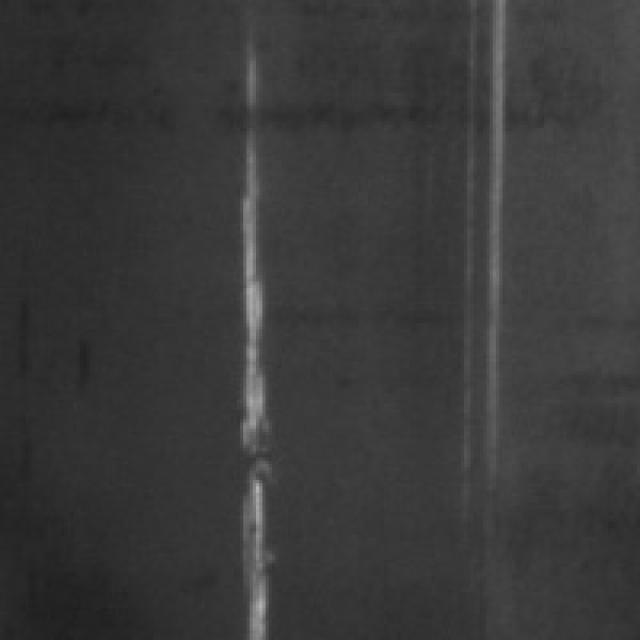scratches: (218, 38, 268, 628), (451, 0, 506, 490)
